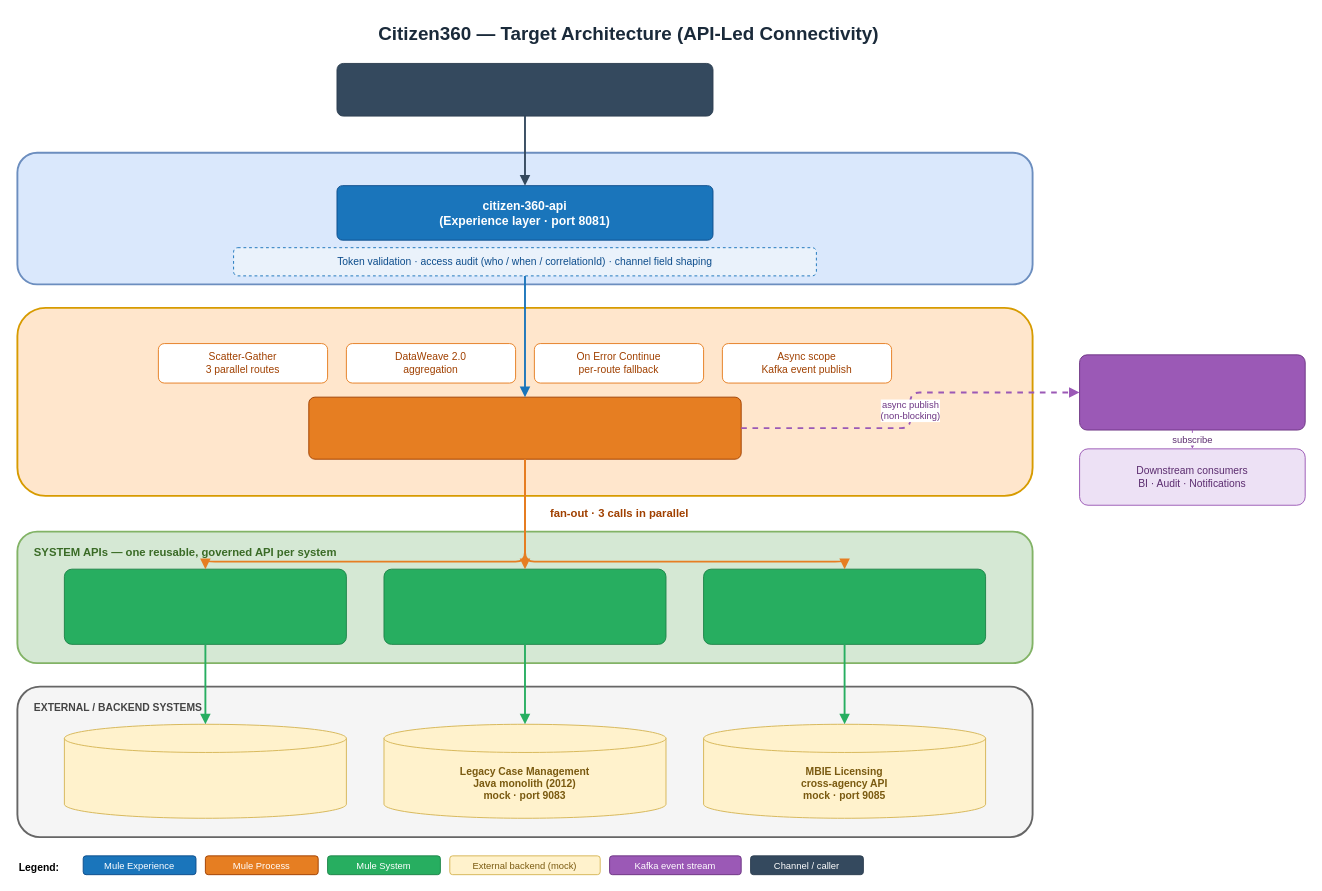
The diagram is 1322 pixels wide and 891 high, and some of its shapes have lost their labels. Each missing label, with the box of its shape:
citizen-360-process-api (Process layer · port 8084): (308, 396, 741, 459)
DIA RealMe identity SaaS mock · port 9082: (63, 723, 346, 818)
EXPERIENCE API — channel-specific facade (security, audit, field shaping): (16, 151, 1033, 285)
Kafka (KRaft) topic: citizen.events keyed by citizenId: (1079, 354, 1305, 430)
PROCESS API — orchestration, aggregation & resilience: (16, 306, 1033, 496)
Service Centre / Citizen Portal HTTPS + OAuth2: (336, 63, 713, 116)
system-case-api port 8083 wraps legacy Case Mgmt: (383, 568, 666, 644)
system-identity-api port 8082 wraps RealMe: (63, 568, 346, 644)
system-license-api port 8085 wraps MBIE Licensing: (703, 568, 986, 644)
